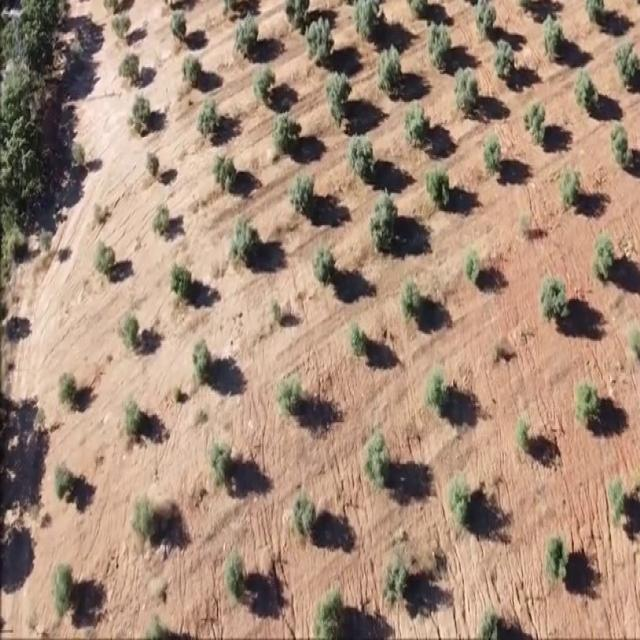trees: (497, 396, 551, 477), (346, 414, 391, 502), (377, 541, 427, 614), (199, 427, 243, 506), (38, 544, 80, 626), (531, 258, 574, 335), (305, 576, 353, 640), (568, 362, 605, 444), (222, 212, 266, 280), (283, 162, 326, 227), (280, 476, 321, 544), (341, 123, 382, 190), (124, 481, 162, 552), (538, 518, 576, 589), (48, 448, 88, 514), (266, 366, 306, 431), (367, 185, 404, 254), (54, 356, 88, 422), (117, 377, 150, 445), (318, 68, 352, 134), (420, 158, 455, 222), (598, 470, 640, 523), (391, 266, 428, 325), (448, 57, 482, 121), (422, 361, 453, 431), (520, 92, 552, 158), (447, 465, 478, 533), (228, 7, 266, 62), (336, 308, 369, 371), (372, 44, 405, 107), (218, 548, 252, 609), (166, 250, 196, 318), (116, 289, 146, 356), (588, 232, 622, 291), (269, 107, 306, 161), (457, 229, 488, 293), (477, 129, 510, 189), (308, 240, 342, 298), (555, 158, 587, 219), (207, 146, 247, 194), (249, 58, 284, 112), (422, 16, 454, 75), (192, 91, 229, 142), (302, 7, 335, 64), (539, 11, 573, 65), (400, 99, 433, 153), (188, 321, 218, 380), (488, 27, 518, 85), (602, 118, 636, 168), (467, 0, 503, 47), (90, 225, 118, 285), (352, 0, 388, 45), (107, 6, 136, 58), (178, 46, 208, 96), (574, 67, 604, 116), (150, 195, 180, 242), (611, 34, 639, 84), (130, 83, 156, 133), (167, 3, 196, 47), (117, 44, 143, 93), (142, 140, 168, 186), (583, 0, 610, 28)
